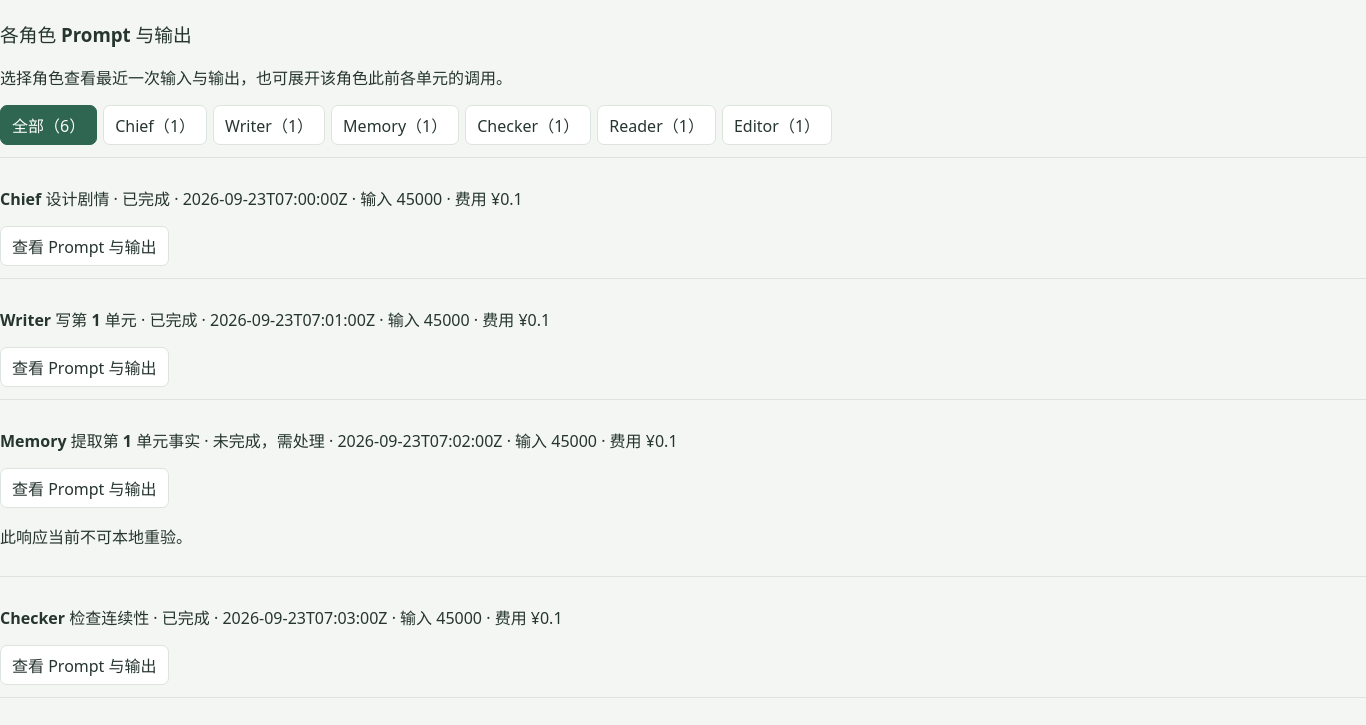
Test: original agent call records › flags a literal terminal marker even with stop while preserving the original output
Click the button "查看 Prompt 与输出" below "Writer 写第 1 单元". click: click(84, 367)
box: [0, 347, 168, 387]
(page scrolled)
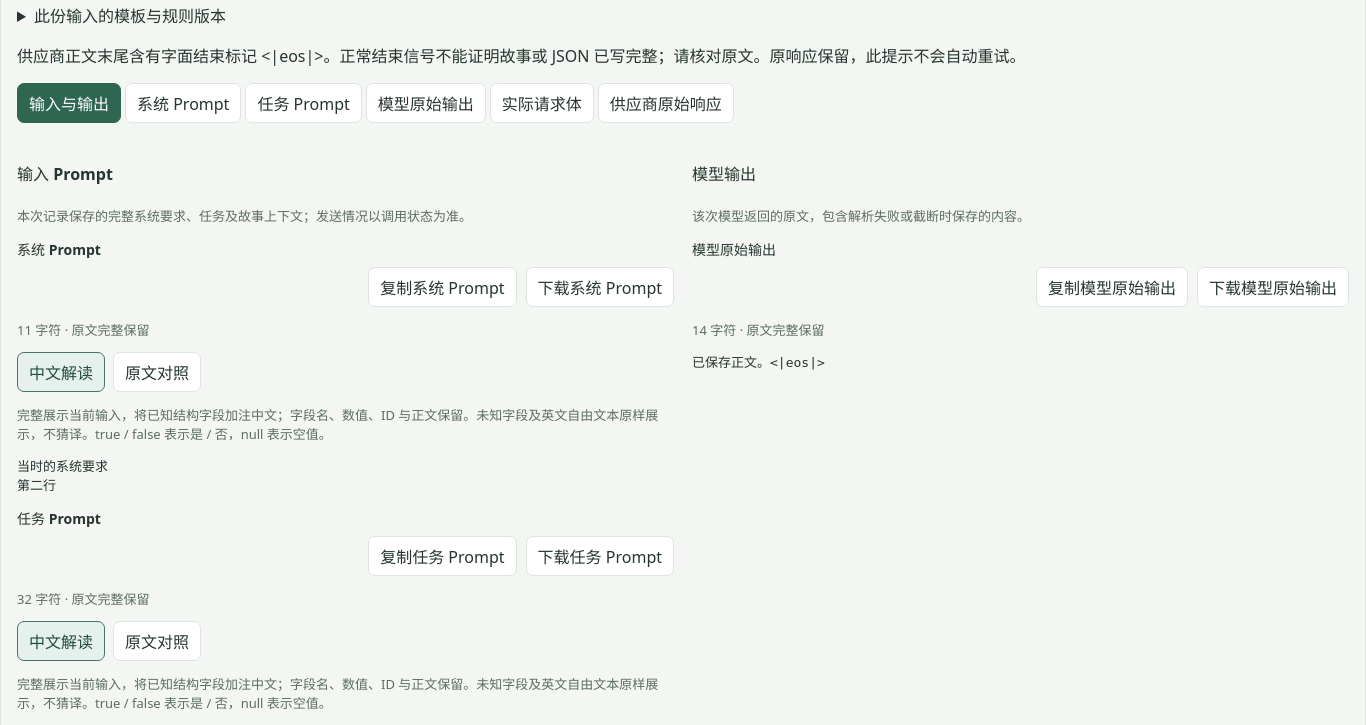
Now the text "供应商正文末尾含有字面结束标记 <|eos|>。正常结束信号不能证明故事或 JSON 已写完整；请核对原文。原响应保留，此提示不会自动重试。" is shown, box [17, 45, 1026, 67]
